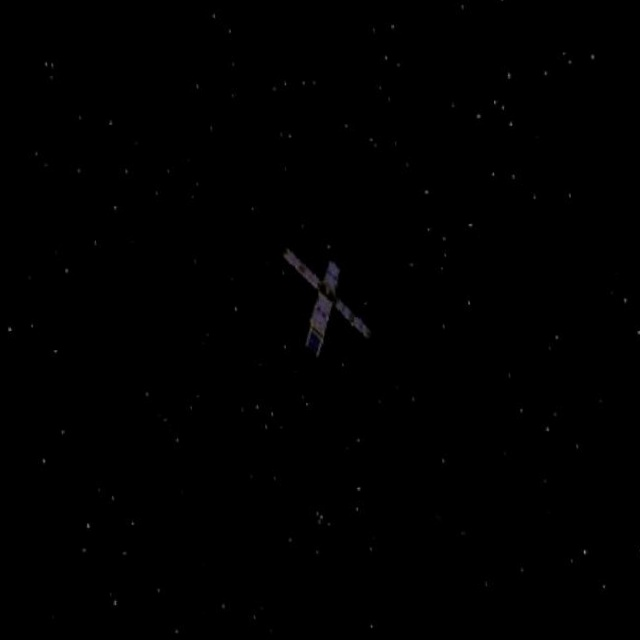medium_debris: (281, 229, 381, 368)
